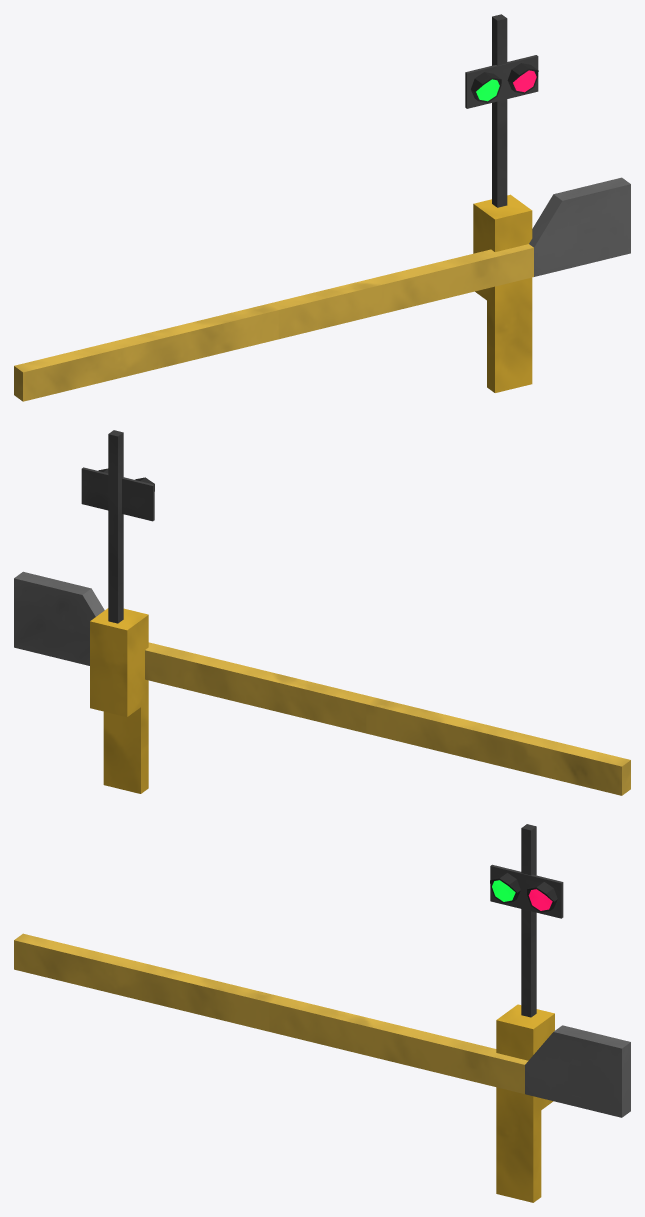
The model's file is SM_Boom.fbx.
The picture shows the model from 3 angles, top to bottom: view 1: azimuth 30°, elevation 25°; view 2: azimuth 150°, elevation 25°; view 3: azimuth 330°, elevation 25°; orthographic projection.
Visible parts, largest first — view 1: SM_Boom, SM_BoomFoundation.001; view 2: SM_Boom, SM_BoomFoundation.001; view 3: SM_Boom, SM_BoomFoundation.001.
Part boxes in pixels (x1,y1,x2,y2): SM_Boom: (14,177,630,401); SM_BoomFoundation.001: (465,14,538,392); SM_Boom: (14,571,630,795); SM_BoomFoundation.001: (81,430,154,793); SM_Boom: (14,933,630,1117); SM_BoomFoundation.001: (490,824,563,1202).
Size of the model in its own units: 4.93 by 2.8 by 0.3752.
